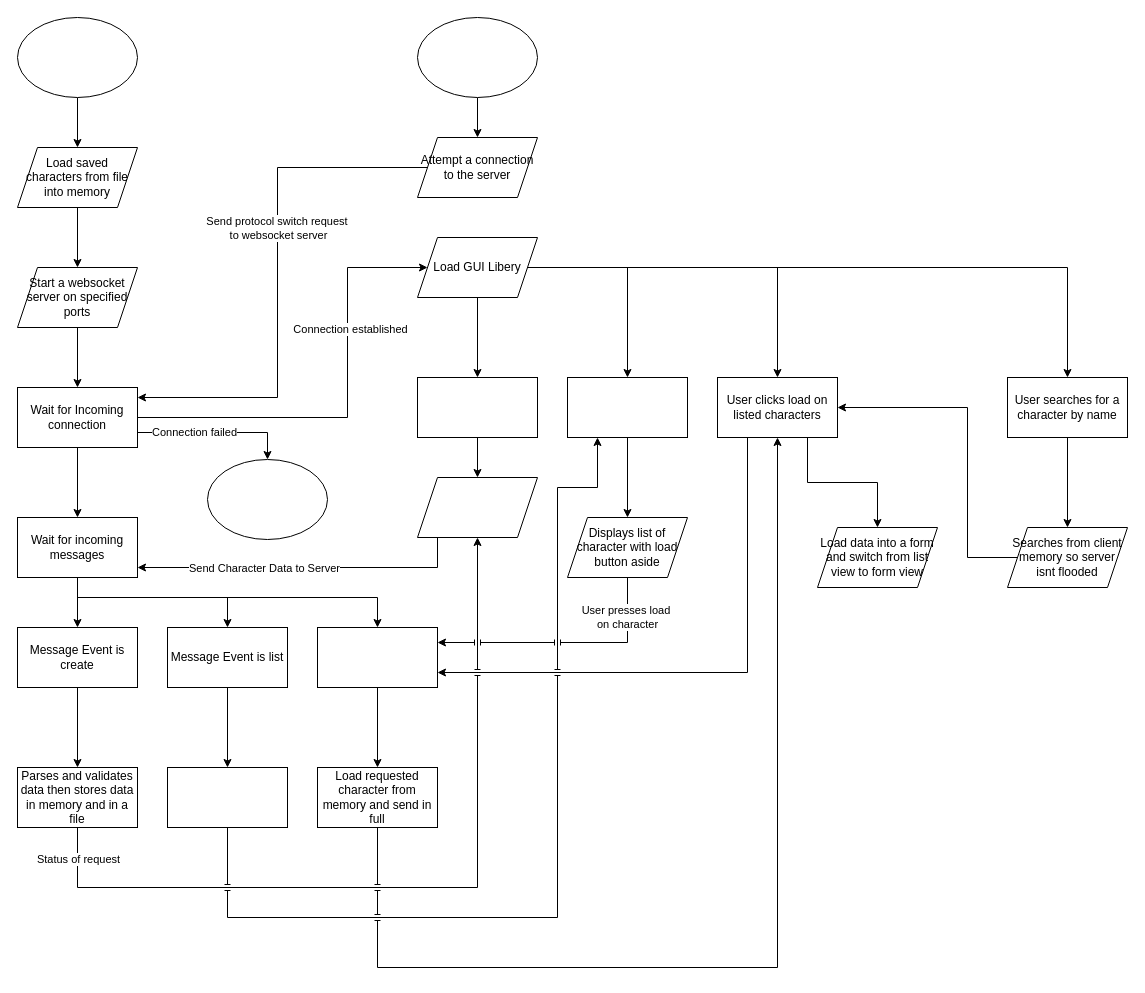
This 1145x993 diagram has some shape labels left out. The shapes that lost their labels are listed below. From the top down, each one's centre as x and y in pixels, then its label:
point (77, 57): Start Server
point (477, 57): Start Client Application
point (477, 407): User Clicks submit on create form
point (627, 407): User Clicks Search on sidebar
point (267, 499): Stop Client Application
point (477, 507): Parse data from gui to json format
point (377, 657): Message event is get
point (227, 797): Formats all characters in memory to a condensed list
